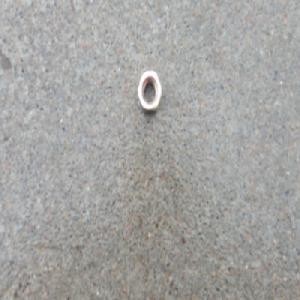Nut: (136, 69, 163, 115)
